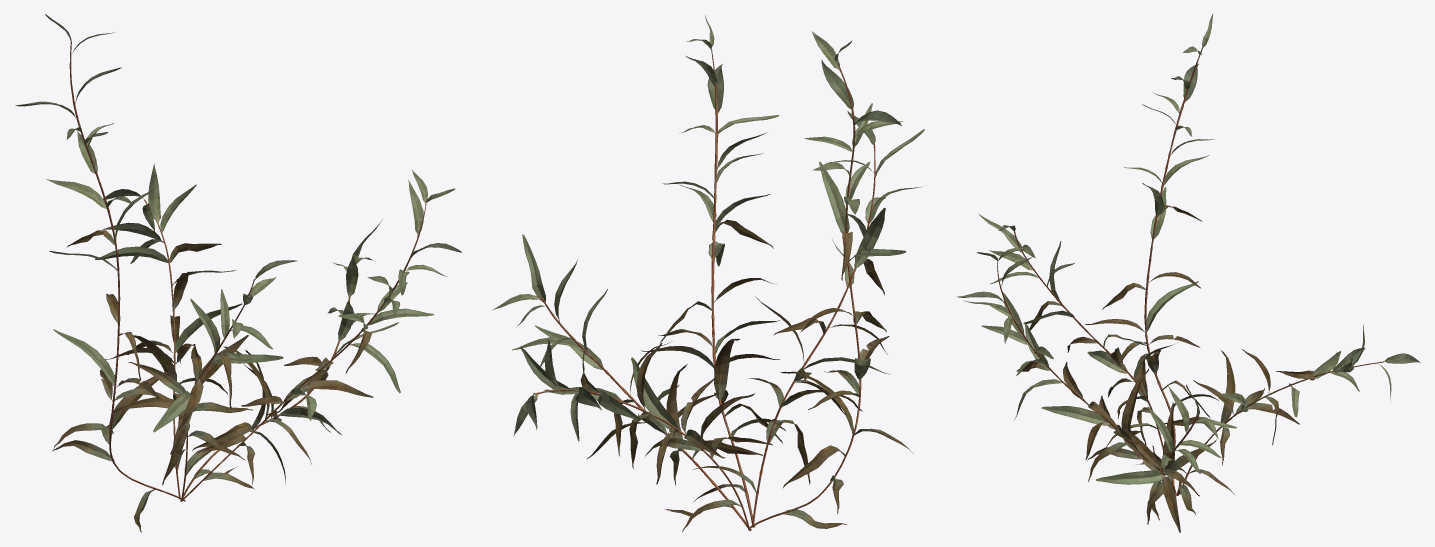
Rendered from shrub2.glb.
The picture shows the model from 3 angles, left to right: view 1: azimuth 30°, elevation 25°; view 2: azimuth 150°, elevation 25°; view 3: azimuth 270°, elevation 25°; orthographic projection. The views are drawn at different scales.
Bounding box in the file's own units: 1.31 × 1.69 × 1.64.
Materials: 1 (1 with a texture image).
